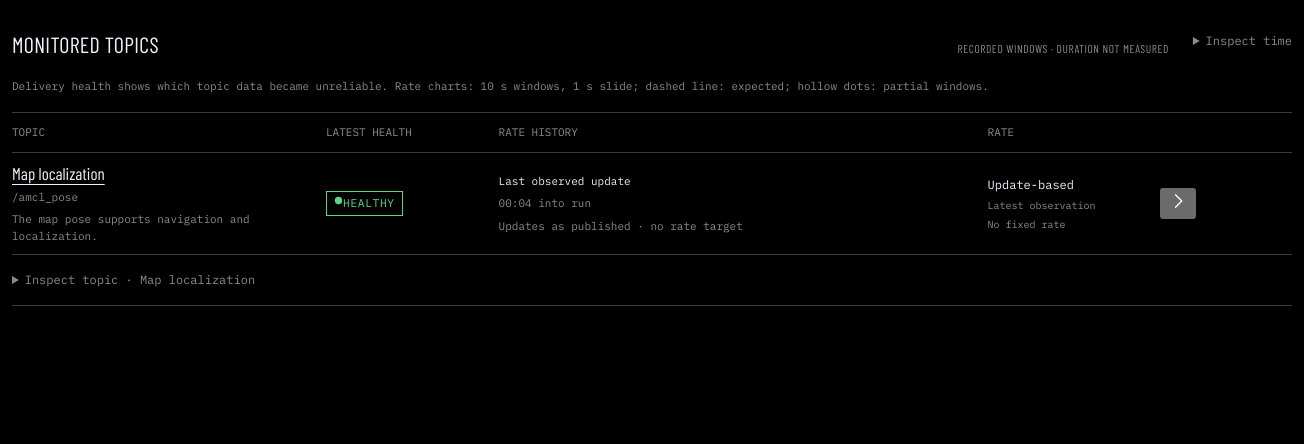
Test: keeps Nav2 localization update-based and explains why signals matter
The width and height of the screenshot is (1304, 444).
Expected: the text "The map pose supports navigation and localization." is shown, [12,212,250,243]
Expected: the text "00:04 into run" is shown, [499,196,591,210]
Click the button "Map localization". click: (58, 173)
box: [12,163,105,183]
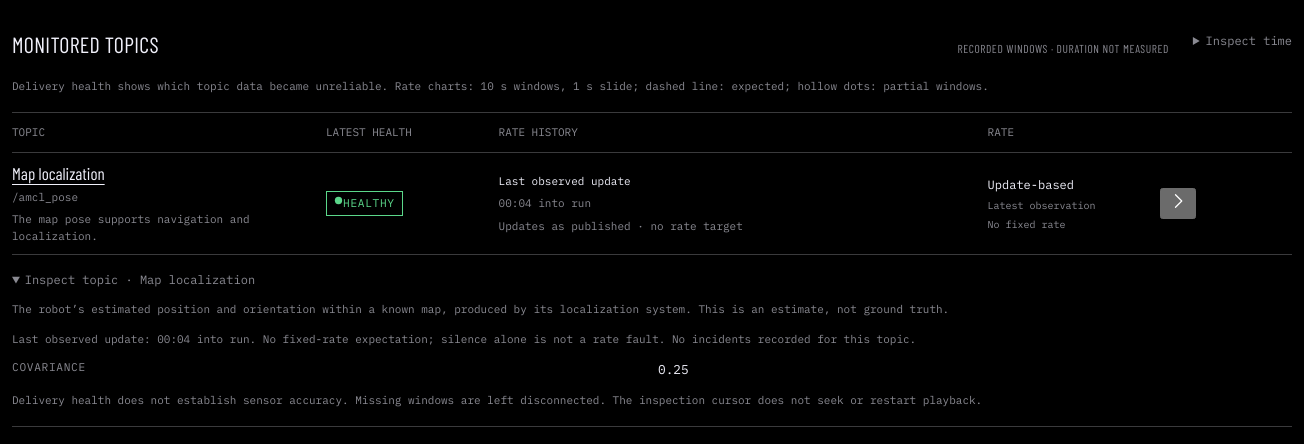
Now the text "This is an estimate, not ground truth" is shown, box [12,302,949,316]
Now the text "covariance" is shown, box [12,360,86,374]
